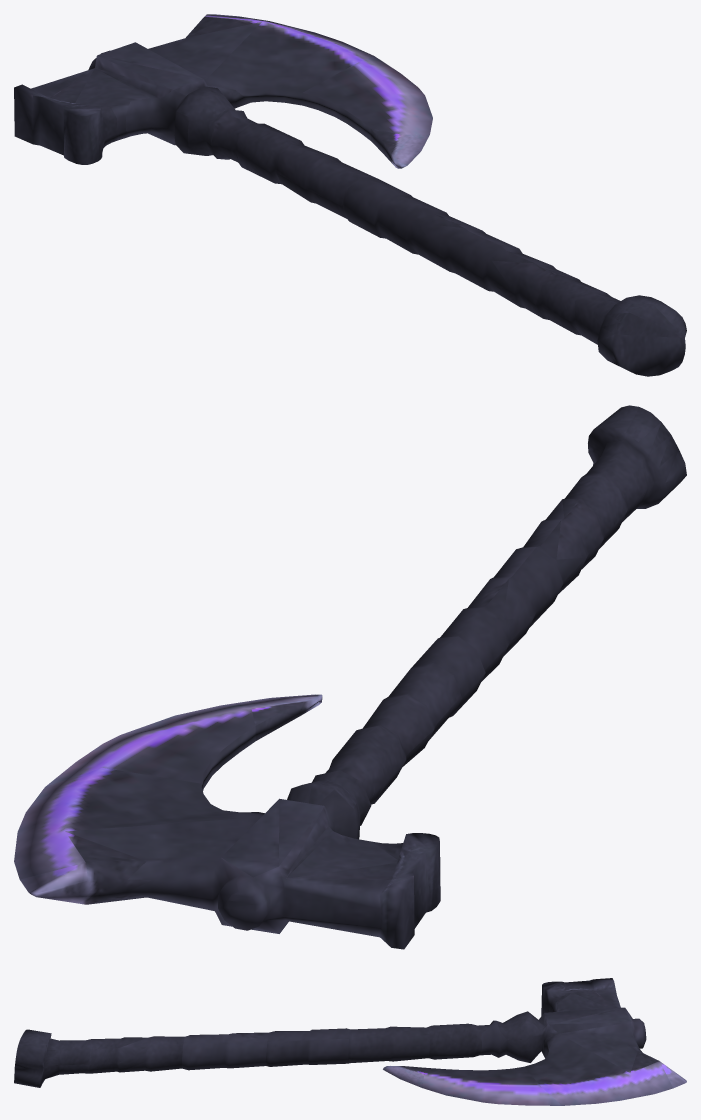
Rendered from f_war_axe.fbx.
3 views of the same model, one above another, from view 1: azimuth 30°, elevation 25°; view 2: azimuth 150°, elevation 25°; view 3: azimuth 270°, elevation 25° (orthographic). The views are drawn at different scales.
Visible parts, largest first — view 1: tripo_node_a3134aea-da8c-4daf-8056-70f426597e0e; view 2: tripo_node_a3134aea-da8c-4daf-8056-70f426597e0e; view 3: tripo_node_a3134aea-da8c-4daf-8056-70f426597e0e.
Boxes of the visible parts, x1,y1,x2,y2 form: tripo_node_a3134aea-da8c-4daf-8056-70f426597e0e: [14, 14, 686, 376]; tripo_node_a3134aea-da8c-4daf-8056-70f426597e0e: [14, 405, 686, 949]; tripo_node_a3134aea-da8c-4daf-8056-70f426597e0e: [14, 978, 686, 1105].
Size of the model in its own units: 0.6168 by 0.1547 by 1.56.
1 material, 1 textured.
